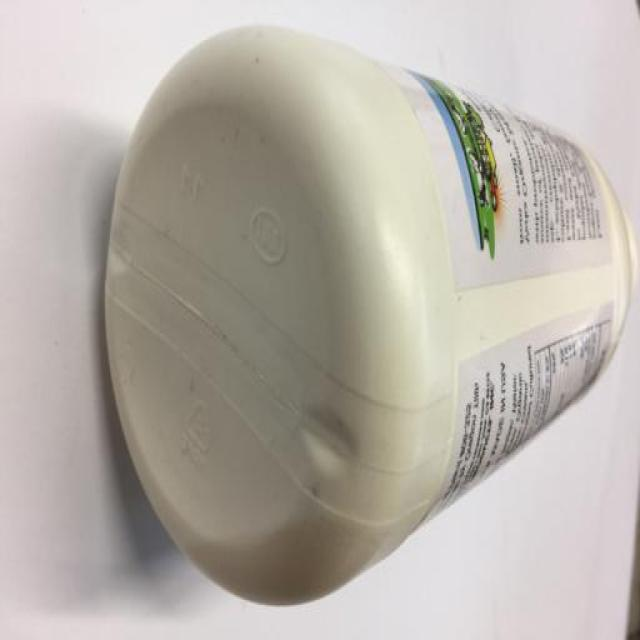Plastic: (102, 25, 635, 608)
